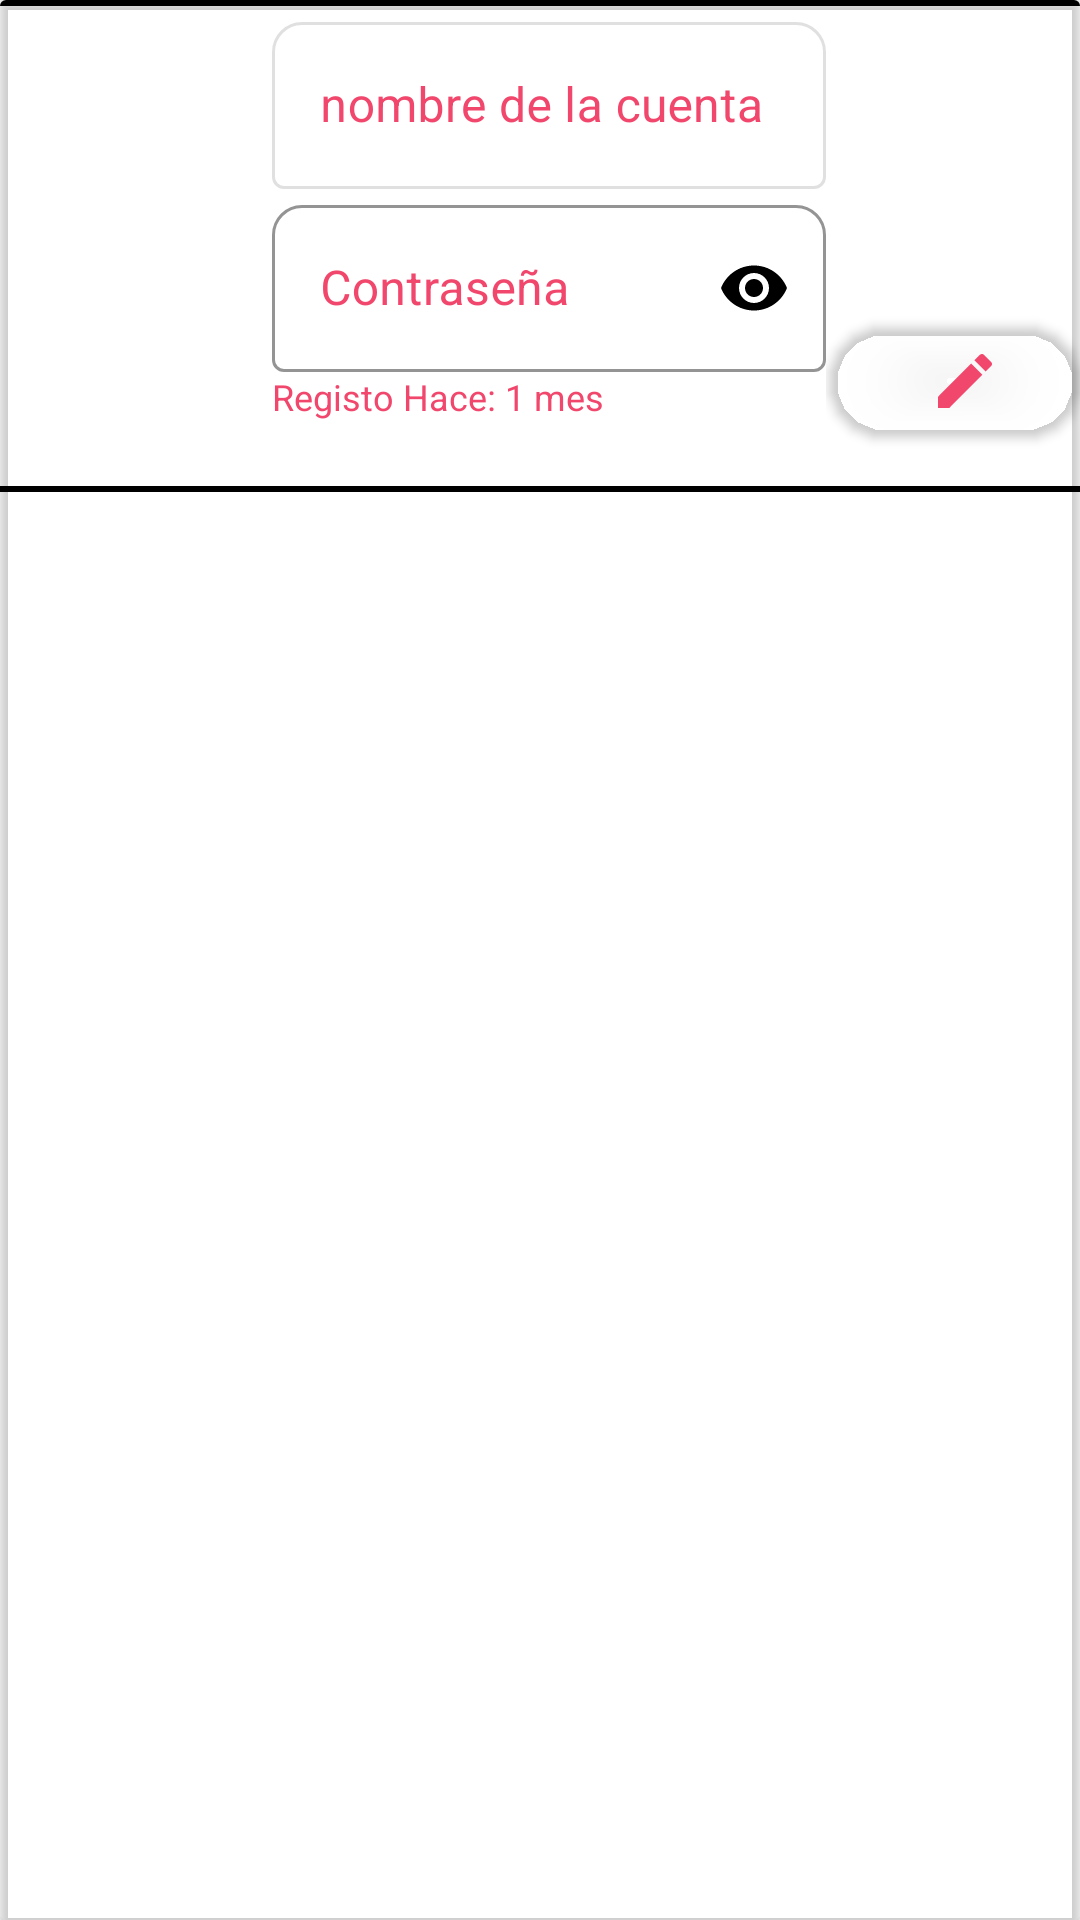

Named icons in this screenshot (1080px×1920px) and their centers, [x,y]:
card edit: [954,381]
